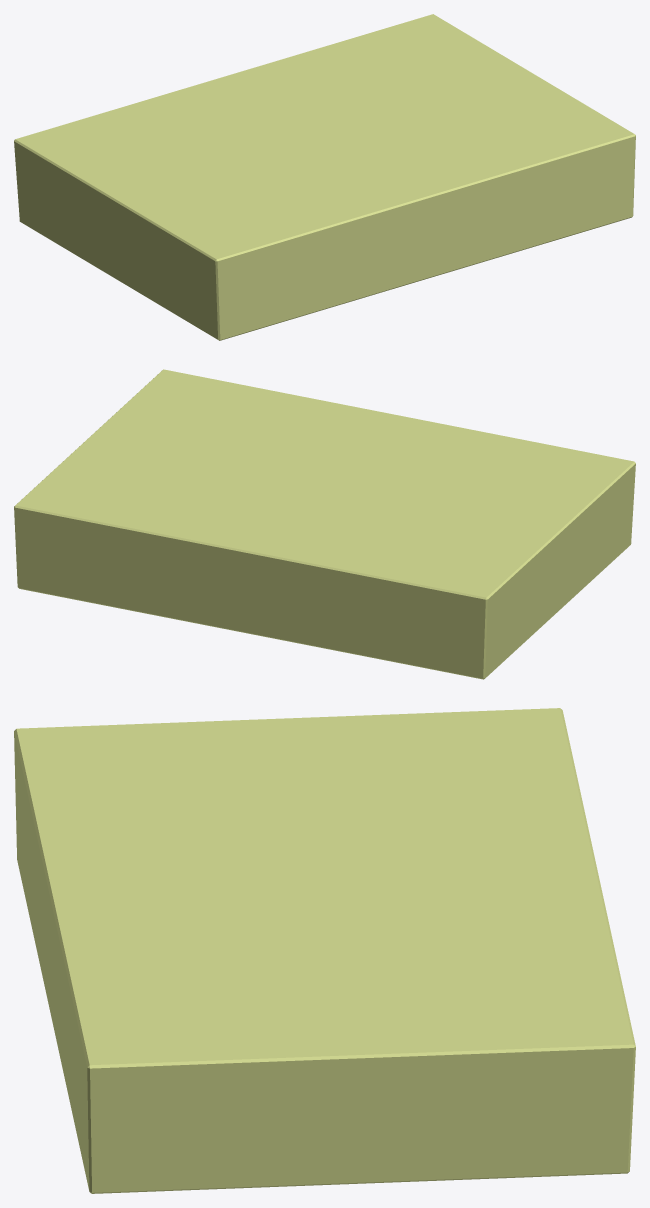
The model's file is file_box_2_cover.fbx.
The picture shows the model from 3 angles, top to bottom: view 1: azimuth 30°, elevation 25°; view 2: azimuth 150°, elevation 25°; view 3: azimuth 270°, elevation 25°; orthographic projection. The views are drawn at different scales.
Visible parts, largest first — view 1: file_box_2_cover; view 2: file_box_2_cover; view 3: file_box_2_cover.
Boxes of the visible parts, <box> form: file_box_2_cover: <box>14,14,635,340</box>; file_box_2_cover: <box>14,369,635,679</box>; file_box_2_cover: <box>14,708,635,1193</box>.
Size of the model in its own units: 0.4842 by 0.0823 by 0.3533.
